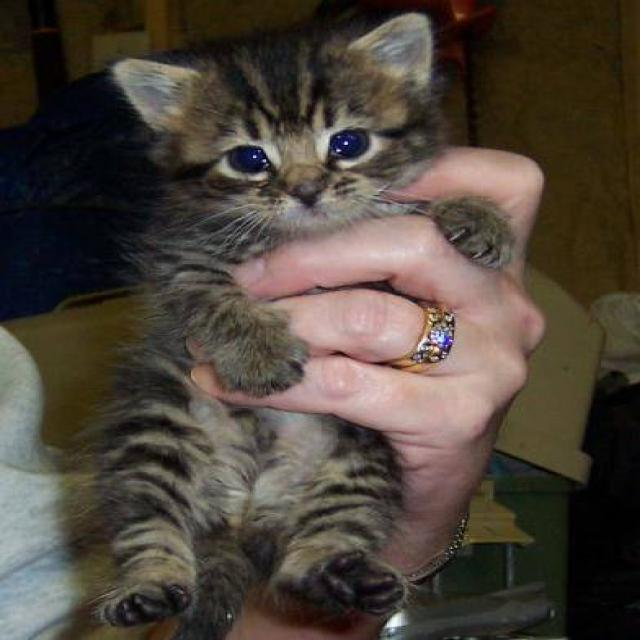cat: (59, 6, 516, 639)
